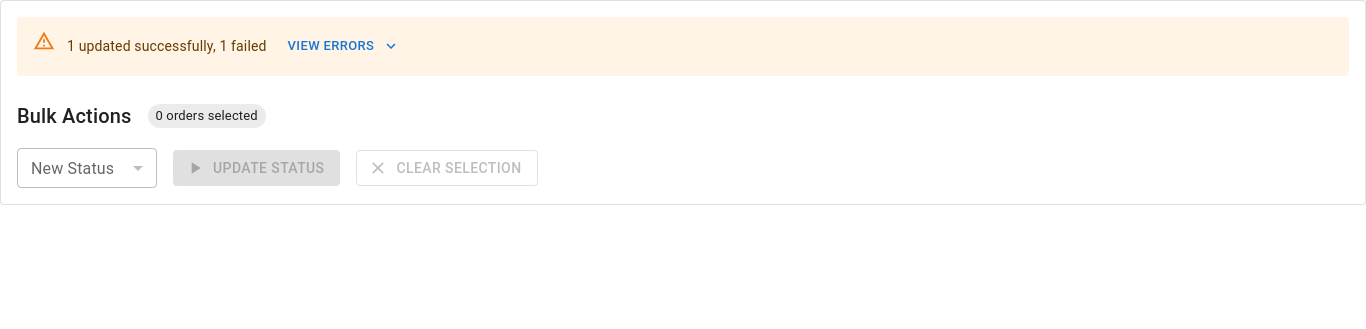
it: BulkOperationsToolbar › Result Display › should show error details on click
The image size is (1366, 329).
Click the button "View Errors": (343, 46) [283,31,403,62]
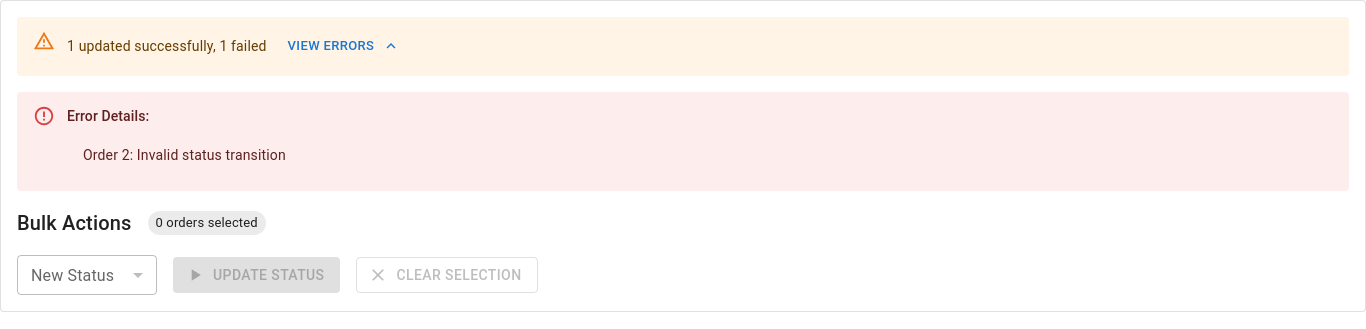
expect the text "Order 2: Invalid status transition" is shown: met, box [83,145,286,165]
